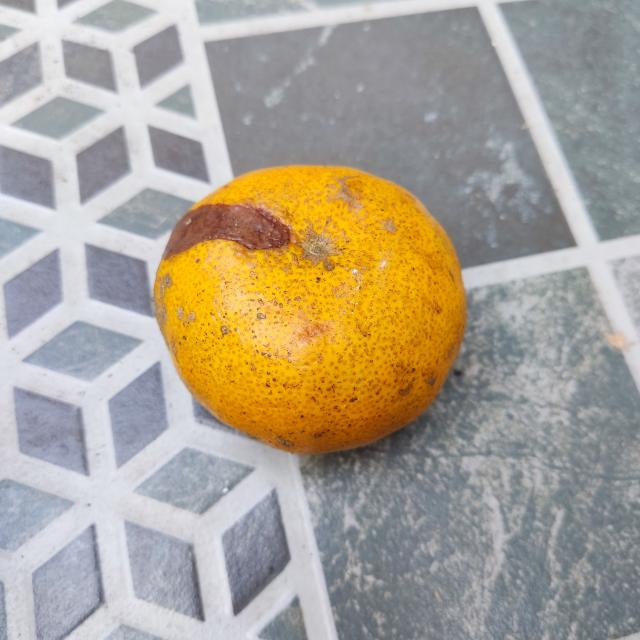orange: (153, 159, 467, 457)
